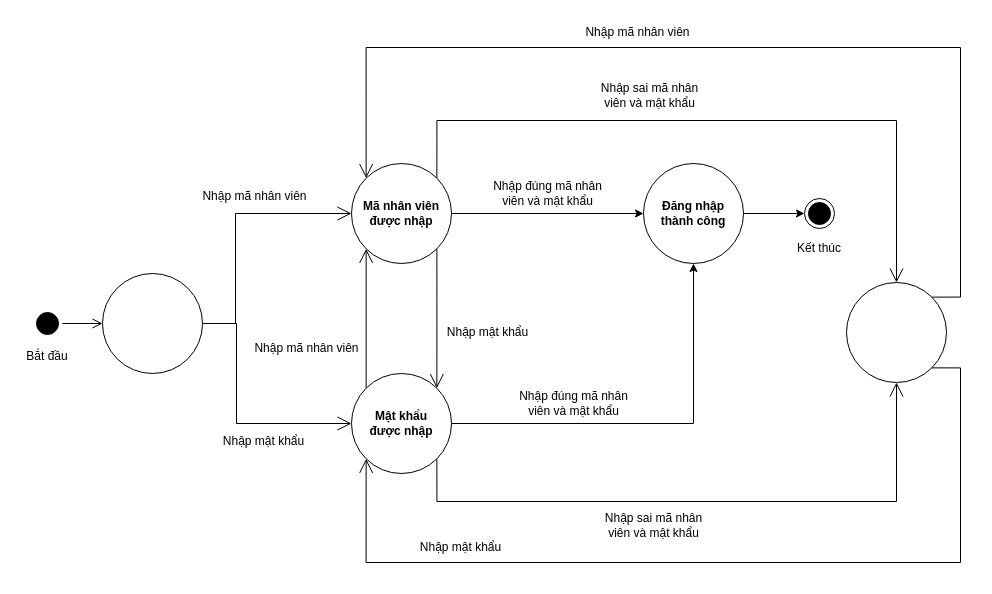
Image size: 992x594. Some labels were removed from this diagram. Here are the shapes that lost their labels. From the top down, the centre of each, then its label:
[152,323]: Chưa đăng nhập
[896,332]: Đăng nhập không thành công
